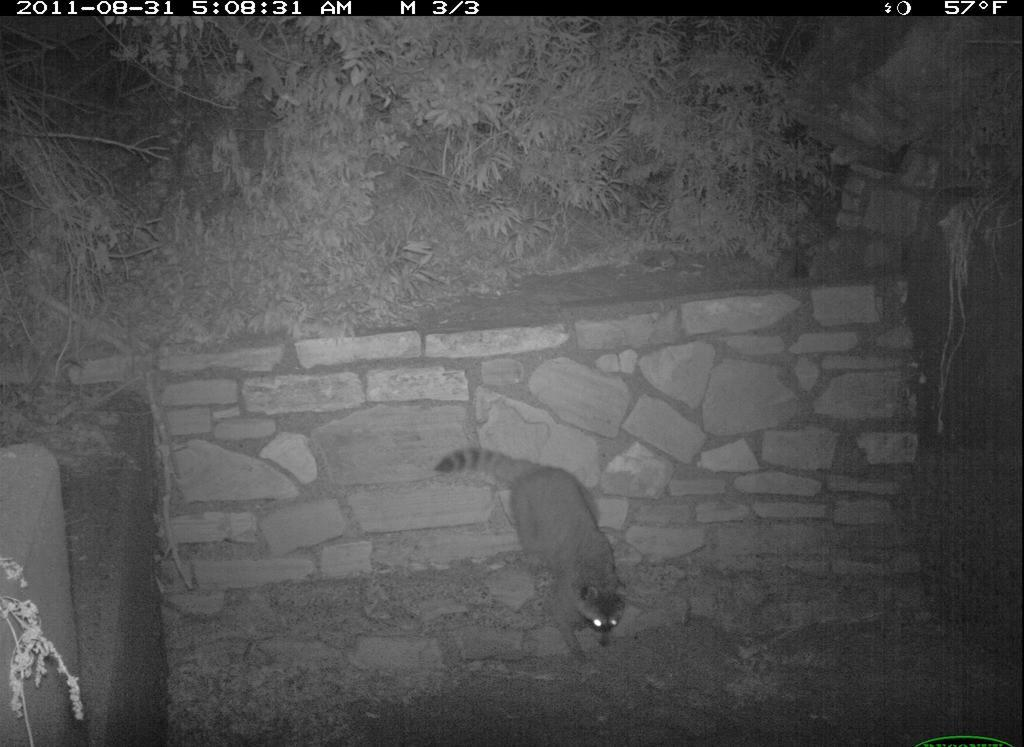raccoon: (445, 437, 684, 674)
